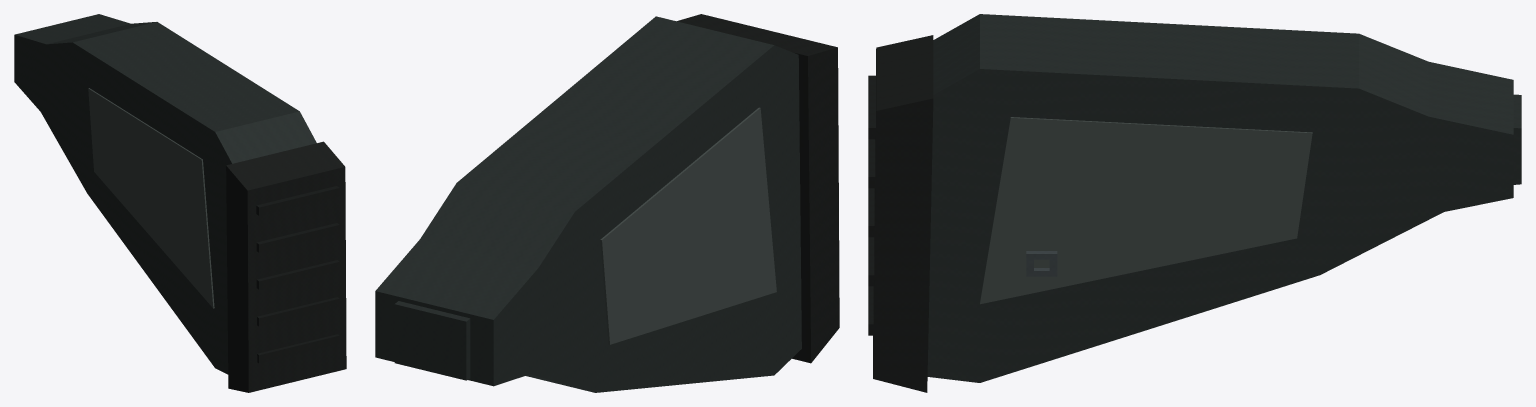
File: ak_stock.glb
The picture shows the model from 3 angles, left to right: view 1: azimuth 30°, elevation 25°; view 2: azimuth 150°, elevation 25°; view 3: azimuth 270°, elevation 25°; orthographic projection. The views are drawn at different scales.
Parts seen in each view (by area): view 1: ak_stock_tapered_stock, ak_stock_buttpad, ak_stock_tapered_stock.001, ak_stock_buttpad.001, ak_stock_recess_panel; view 2: ak_stock_tapered_stock, ak_stock_tapered_stock.001, ak_stock_recess_panel, ak_stock_buttpad, ak_stock_buttpad.001; view 3: ak_stock_tapered_stock, ak_stock_tapered_stock.001, ak_stock_recess_panel, ak_stock_buttpad, ak_stock_buttpad.001, ak_stock_sling_eye.
Boxes of the visible parts, box(x1,y1,x2,y2) form: ak_stock_tapered_stock: box(15, 15, 313, 371); ak_stock_buttpad: box(226, 143, 344, 390); ak_stock_tapered_stock.001: box(14, 14, 316, 374); ak_stock_buttpad.001: box(226, 141, 346, 392); ak_stock_recess_panel: box(88, 88, 214, 308); ak_stock_tapered_stock: box(379, 23, 801, 388); ak_stock_tapered_stock.001: box(375, 16, 801, 392); ak_stock_recess_panel: box(600, 107, 776, 344); ak_stock_buttpad: box(679, 15, 839, 360); ak_stock_buttpad.001: box(677, 14, 839, 363); ak_stock_tapered_stock: box(929, 28, 1519, 379); ak_stock_tapered_stock.001: box(927, 14, 1521, 382); ak_stock_recess_panel: box(980, 117, 1312, 304); ak_stock_buttpad: box(868, 36, 932, 390); ak_stock_buttpad.001: box(873, 35, 933, 392); ak_stock_sling_eye: box(1026, 251, 1057, 276).
Size of the model in its own units: 0.097 by 0.228 by 0.422.
4 materials, 3 textured.
